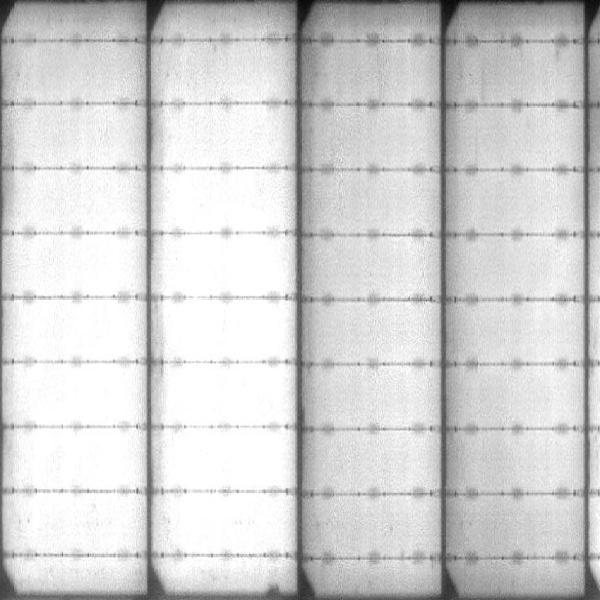hot_spot: (166, 369, 287, 423), (166, 432, 289, 485), (17, 434, 139, 482), (171, 305, 285, 356), (22, 304, 137, 354), (20, 370, 130, 422), (175, 500, 282, 550), (22, 246, 137, 292), (169, 241, 279, 289), (171, 182, 277, 228)
